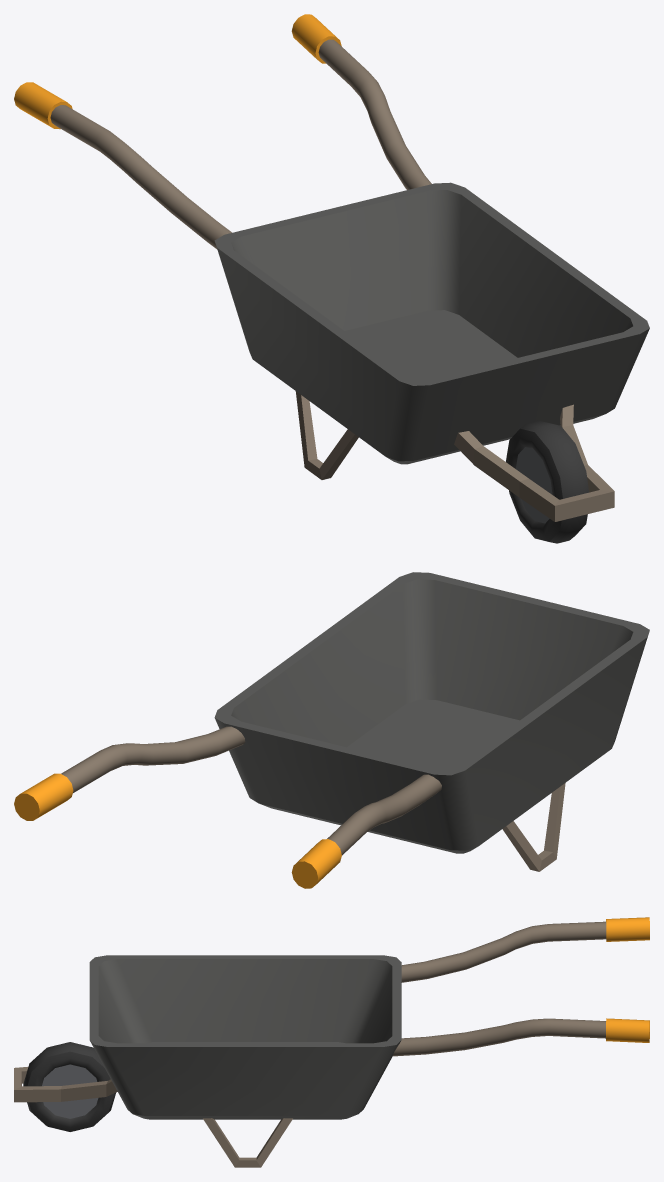
The model's file is GardenCart_4.fbx.
The picture shows the model from 3 angles, top to bottom: view 1: azimuth 30°, elevation 25°; view 2: azimuth 150°, elevation 25°; view 3: azimuth 270°, elevation 25°; orthographic projection. The views are drawn at different scales.
Visible parts, largest first — view 1: GardenCart_4; view 2: GardenCart_4; view 3: GardenCart_4.
Boxes of the visible parts, x1,y1,x2,y2 form: GardenCart_4: [14, 14, 649, 543]; GardenCart_4: [14, 572, 649, 888]; GardenCart_4: [14, 917, 649, 1167].
Size of the model in its own units: 92.79 by 61.41 by 221.
